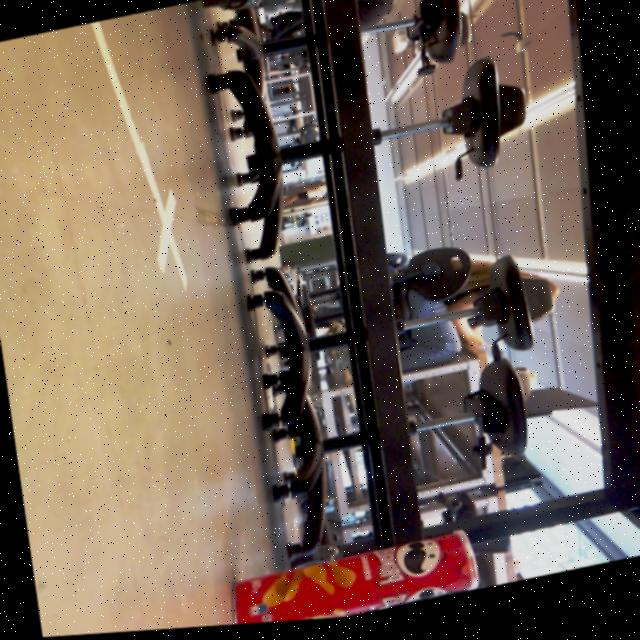redpringles: (220, 532, 484, 628)
